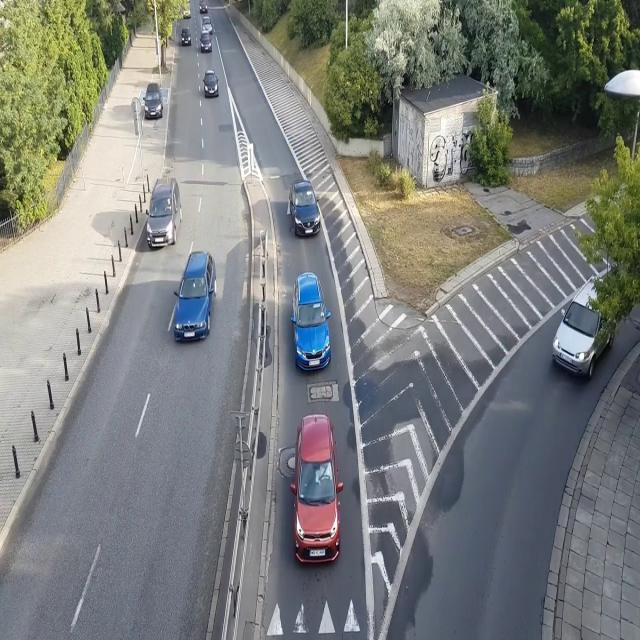car: (288, 412, 344, 565), (551, 273, 619, 380), (290, 272, 331, 374), (173, 250, 217, 343), (289, 176, 321, 238), (142, 82, 163, 120), (202, 69, 219, 97), (200, 31, 212, 52), (180, 28, 192, 46), (201, 16, 213, 34), (182, 4, 192, 19), (198, 0, 208, 14)
van: (145, 176, 182, 248)
